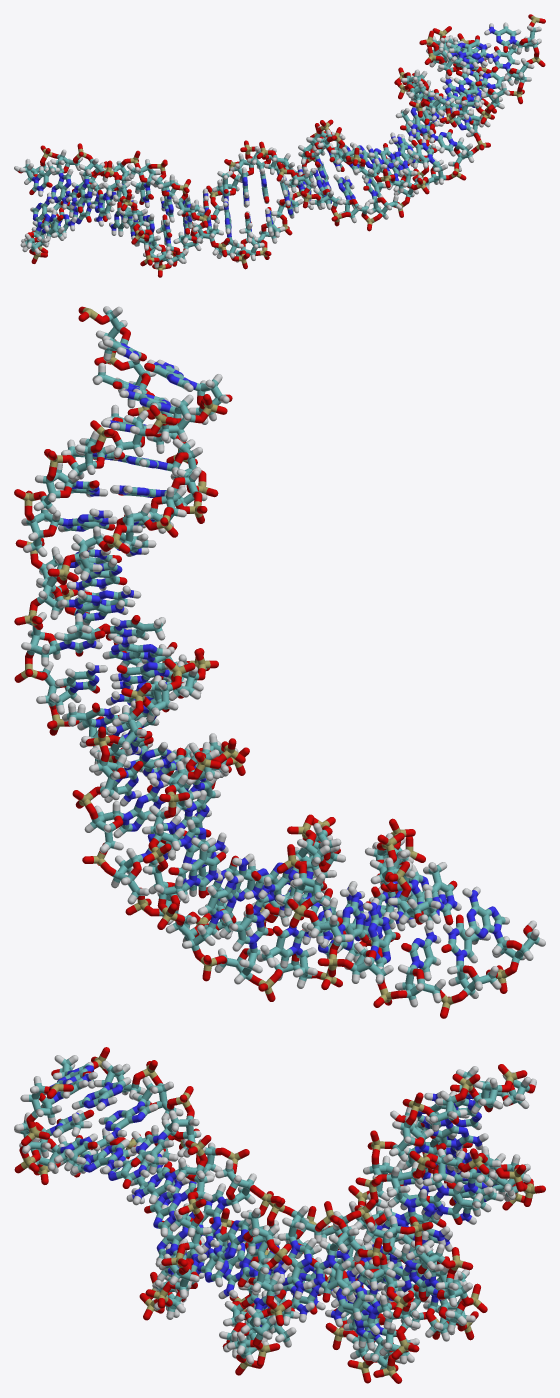
Rendered from dna.glb.
The picture shows the model from 3 angles, top to bottom: view 1: azimuth 30°, elevation 25°; view 2: azimuth 150°, elevation 25°; view 3: azimuth 270°, elevation 25°; orthographic projection. The views are drawn at different scales.
Visible parts, largest first — view 1: Object_2; view 2: Object_2; view 3: Object_2.
Boxes of the visible parts, x1,y1,x2,y2 form: Object_2: (14,14,545,277); Object_2: (14,306,545,1018); Object_2: (14,1047,545,1383).
Size of the model in its own units: 12.24 by 8.16 by 9.1.
Materials: 1 (1 with a texture image).
